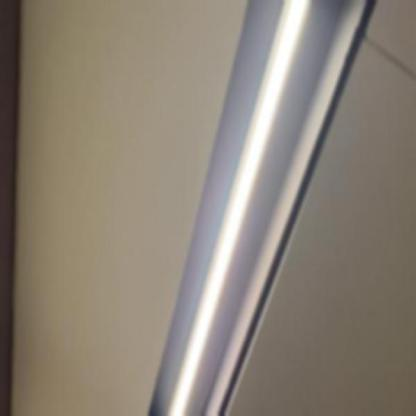light_on: (153, 0, 327, 415)
